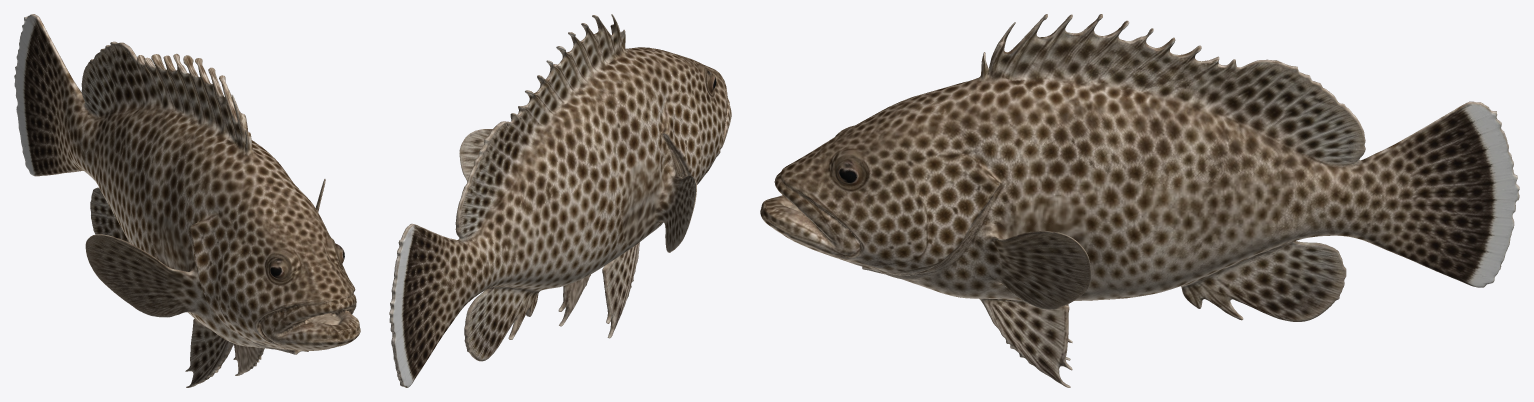
Rendered from oomonhata-439a69f53776.glb.
3 views of the same model, side by side, from view 1: azimuth 30°, elevation 25°; view 2: azimuth 150°, elevation 25°; view 3: azimuth 270°, elevation 25° (orthographic). The views are drawn at different scales.
Bounding box in the file's own units: 0.7841 × 0.9906 × 1.9.
1 material, 1 textured.
